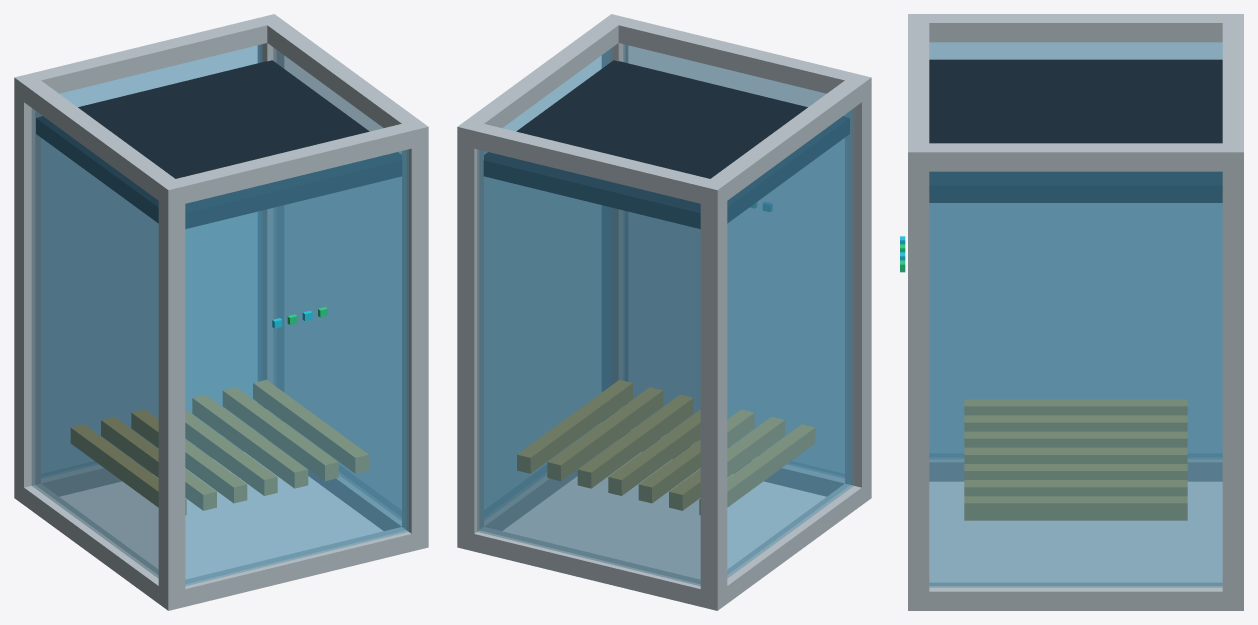
File: 59_L79_ESDGuardedTransferStation.fbx
The picture shows the model from 3 angles, left to right: view 1: azimuth 30°, elevation 25°; view 2: azimuth 150°, elevation 25°; view 3: azimuth 270°, elevation 25°; orthographic projection. The views are drawn at different scales.
Parts seen in each view (by area): view 1: ESDGuardedTransferStation; view 2: ESDGuardedTransferStation; view 3: ESDGuardedTransferStation.
Part boxes in pixels (x1,y1,x2,y2): ESDGuardedTransferStation: (14, 14, 428, 610); ESDGuardedTransferStation: (457, 14, 871, 610); ESDGuardedTransferStation: (900, 14, 1243, 610).
Bounding box in the file's own units: 154 × 238 × 162.
